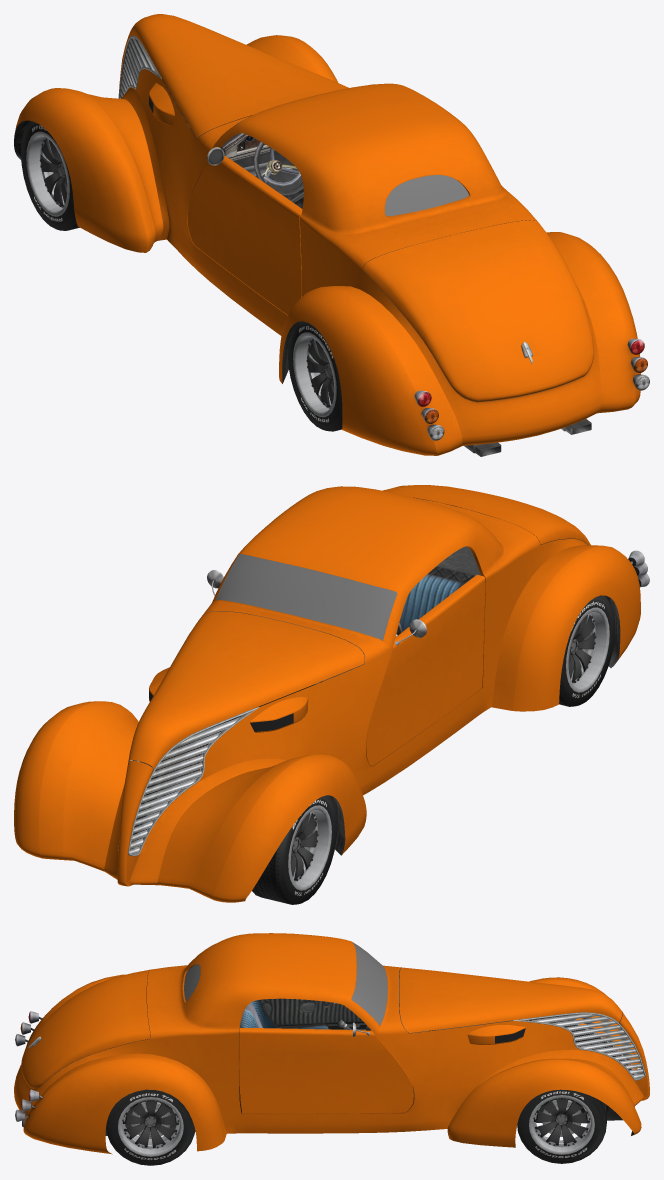
3 renders of one model, top to bottom at view 1: azimuth 30°, elevation 25°; view 2: azimuth 150°, elevation 25°; view 3: azimuth 270°, elevation 25°, orthographic. The views are drawn at different scales.
Visible parts, largest first — view 1: Body, Trunk, Hood, Door_Left, Wheel_LR, Wheel_LF, Glass, Interior, SteeringWheel; view 2: Body, Hood, Door_Left, Glass, Wheel_LF, Wheel_LR, Trunk, Interior; view 3: Body, Door_Right, Hood, Trunk, Wheel_RF, Wheel_RR, Glass, Door_Left, Interior.
Boxes of the visible parts, bbox=[...] form: Body: bbox=[14, 35, 649, 456]; Trunk: bbox=[362, 220, 593, 401]; Hood: bbox=[128, 14, 348, 137]; Door_Left: bbox=[187, 147, 302, 314]; Wheel_LR: bbox=[287, 321, 342, 431]; Wheel_LF: bbox=[21, 121, 79, 230]; Glass: bbox=[149, 96, 468, 216]; Interior: bbox=[220, 133, 303, 208]; SteeringWheel: bbox=[254, 142, 303, 196]; Body: bbox=[14, 486, 649, 902]; Hood: bbox=[128, 611, 364, 768]; Door_Left: bbox=[366, 575, 485, 765]; Glass: bbox=[149, 554, 397, 731]; Wheel_LF: bbox=[252, 795, 337, 904]; Wheel_LR: bbox=[559, 595, 614, 706]; Trunk: bbox=[382, 485, 590, 545]; Interior: bbox=[396, 546, 481, 633]; Body: bbox=[14, 933, 649, 1154]; Door_Right: bbox=[239, 1022, 413, 1113]; Hood: bbox=[399, 967, 622, 1032]; Trunk: bbox=[21, 969, 150, 1088]; Wheel_RF: bbox=[517, 1089, 606, 1163]; Wheel_RR: bbox=[106, 1089, 195, 1165]; Glass: bbox=[184, 942, 525, 1043]; Door_Left: bbox=[260, 998, 365, 1030]; Interior: bbox=[239, 1000, 414, 1112].
Bounding box in the file's own units: 256 × 190 × 668.
12 materials, 12 textured.
